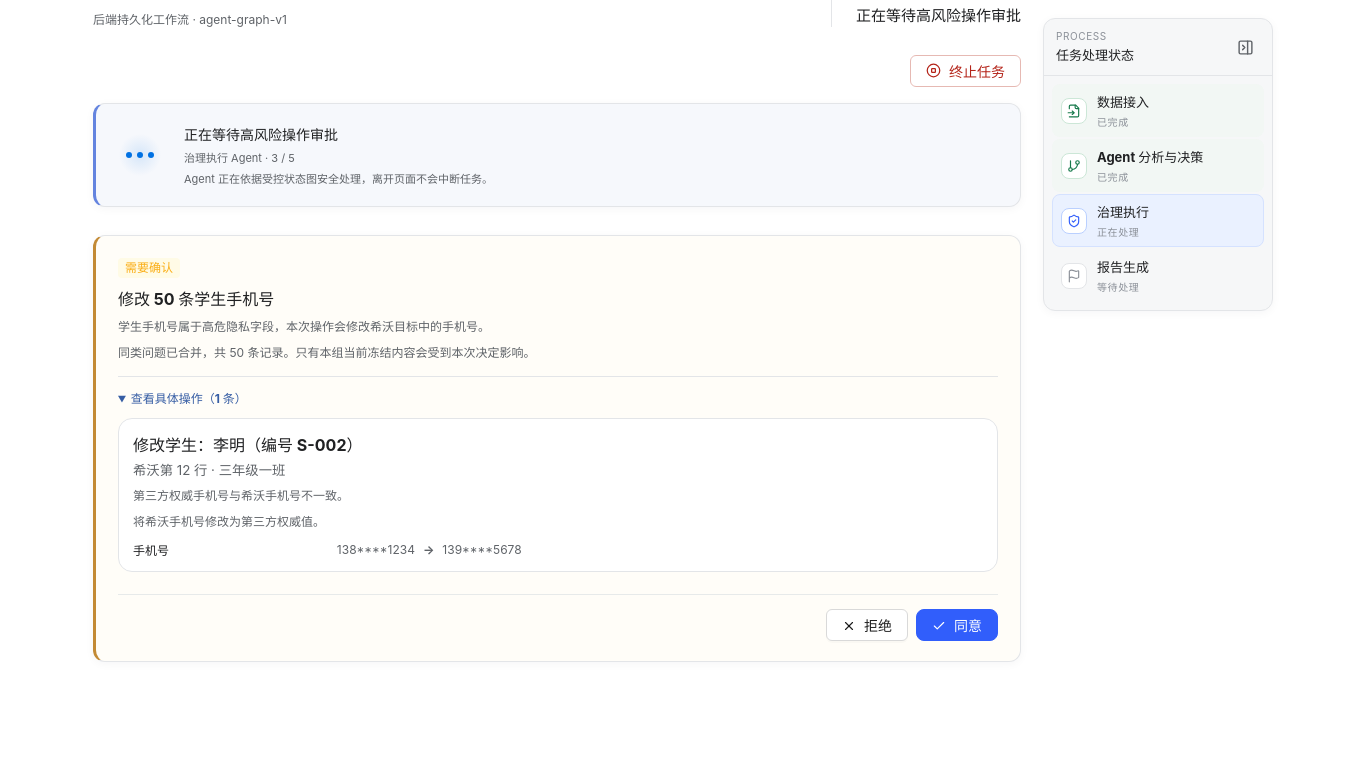
Scenario: controlled Agent graph task detail › shows an approval failure inside the affected high-risk card
(page scrolled)
Expected: the element "修改 50 条学生手机号" is shown, [93,234,1021,662]
What coordinates should you click on to do the following:
click the button "同意"
I would click on:
 (957, 625)
Its box is [916,609,998,641].
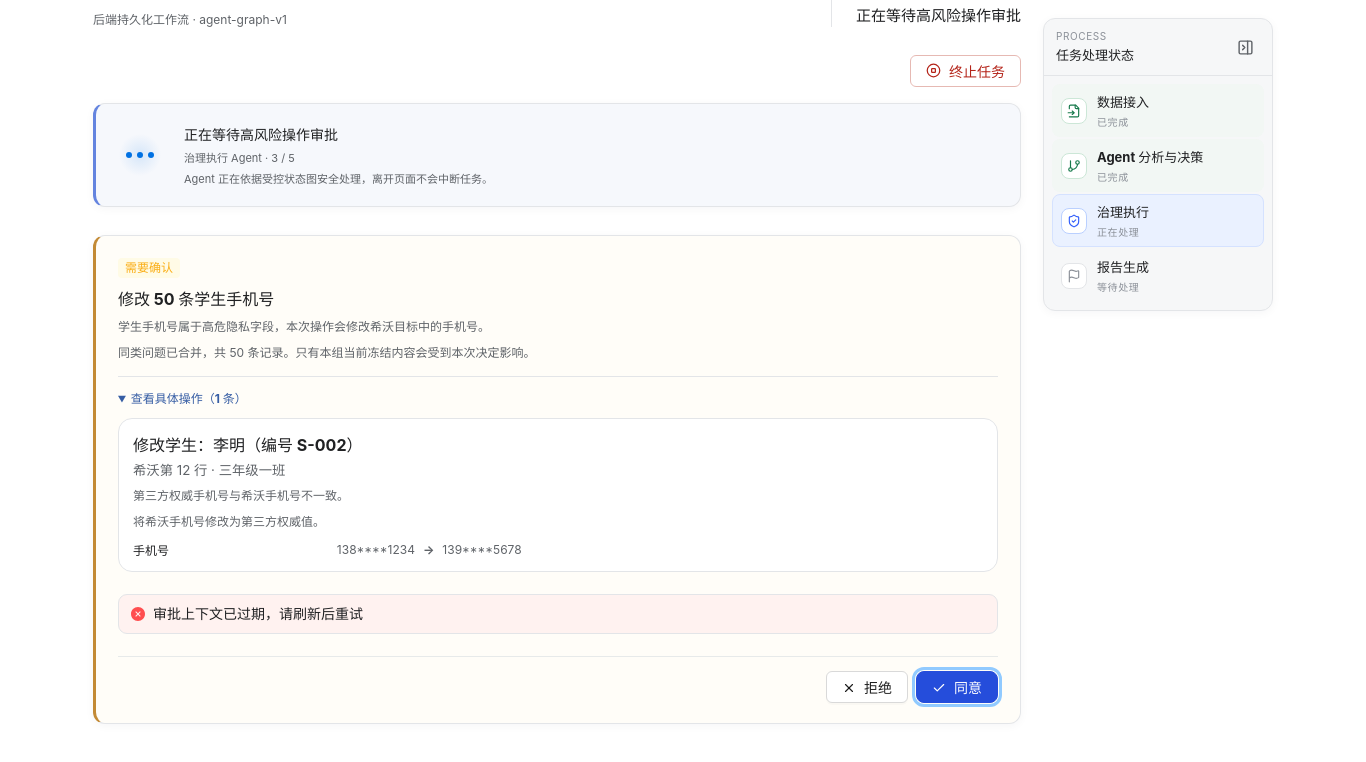
Result: the text "审批上下文已过期，请刷新后重试" is shown at [153,605,363,622]
